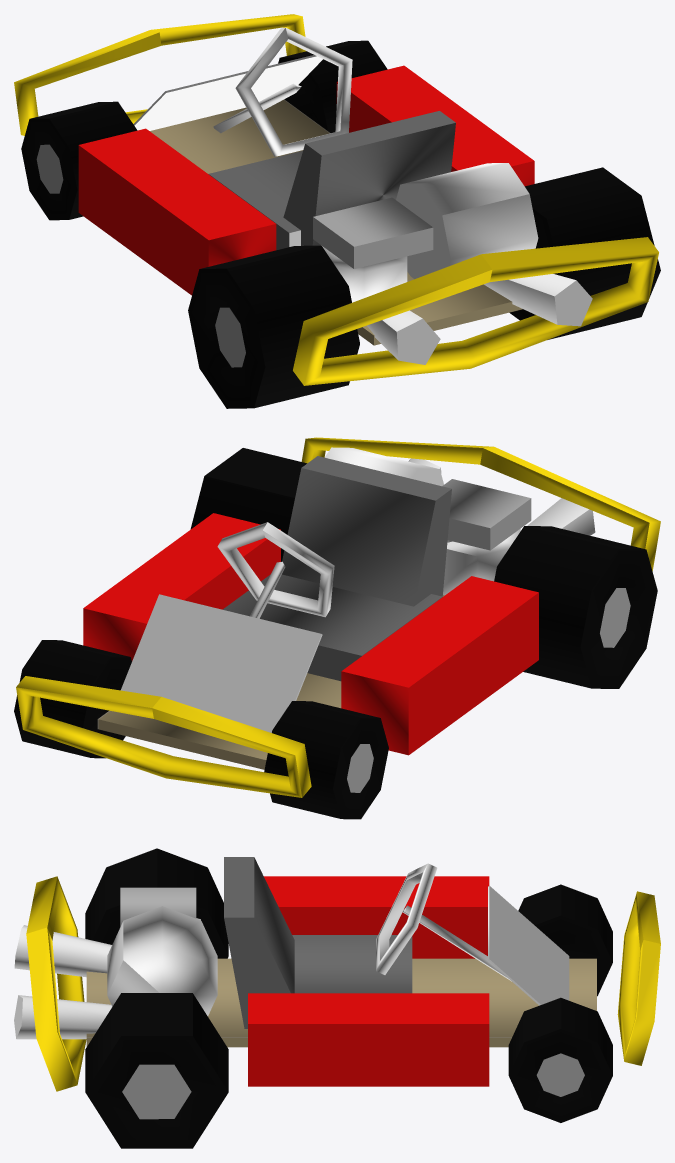
File: MHK2.ICO.obj
3 views of the same model, one above another, from view 1: azimuth 30°, elevation 25°; view 2: azimuth 150°, elevation 25°; view 3: azimuth 270°, elevation 25° (orthographic). The views are drawn at different scales.
Bounding box in the file's own units: 2.66 × 1.44 × 4.06.
Materials: 1 (1 with a texture image).
